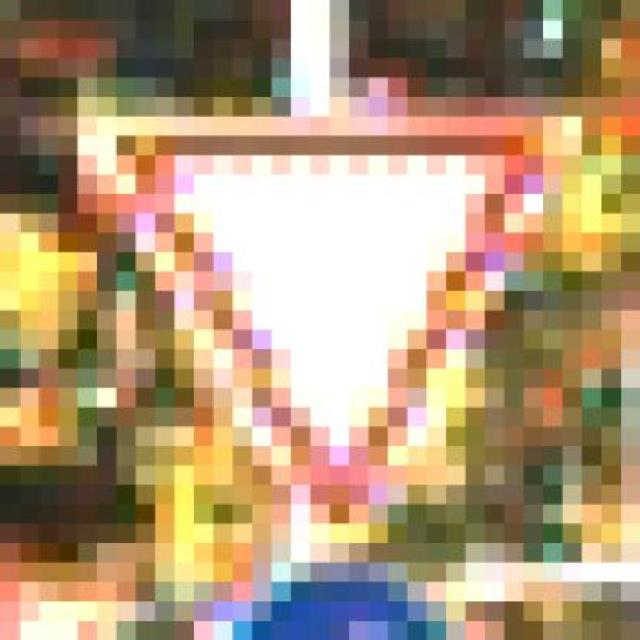Give Way: (78, 97, 562, 543)
